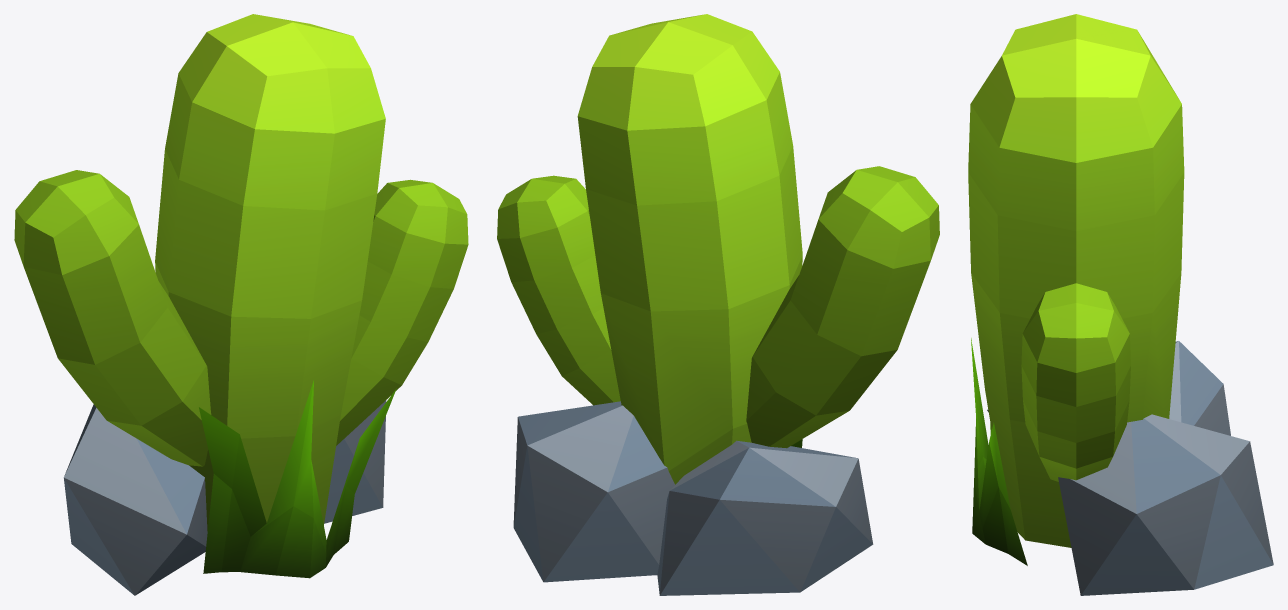
File: cactus_1.fbx
3 views of the same model, side by side, from view 1: azimuth 30°, elevation 25°; view 2: azimuth 150°, elevation 25°; view 3: azimuth 270°, elevation 25° (orthographic). The views are drawn at different scales.
Visible parts, largest first — view 1: cactus1.001; view 2: cactus1.001; view 3: cactus1.001.
Boxes of the visible parts, <box> form: cactus1.001: <box>14,14,468,595</box>; cactus1.001: <box>497,14,939,595</box>; cactus1.001: <box>968,14,1273,595</box>.
Bounding box in the file's own units: 200 × 222 × 120.
